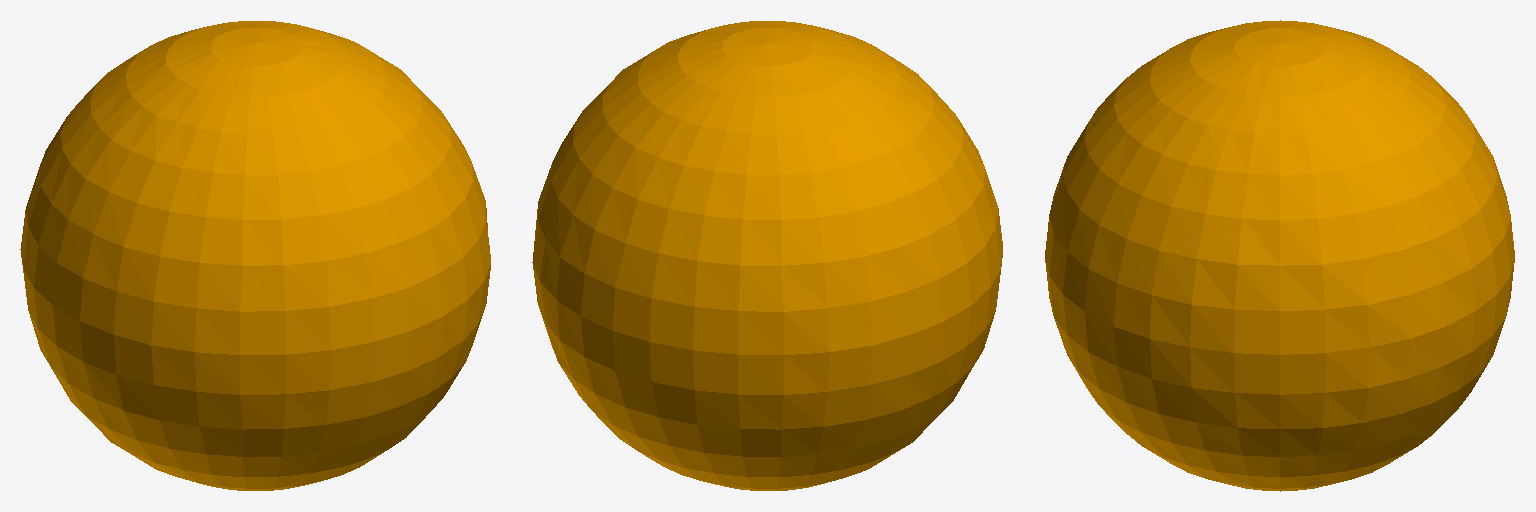
The robot description file, URDF, robot "light_balcony":
<?xml version="1.0" ?>

<robot name="light_balcony" xmlns:xi="http://www.w3.org/2001/XInclude"
	xmlns:gazebo="http://playerstage.sourceforge.net/gazebo/xmlschema/#gz"
	xmlns:model="http://playerstage.sourceforge.net/gazebo/xmlschema/#model"
	xmlns:sensor="http://playerstage.sourceforge.net/gazebo/xmlschema/#sensor"
	xmlns:body="http://playerstage.sourceforge.net/gazebo/xmlschema/#body"
	xmlns:geom="http://playerstage.sourceforge.net/gazebo/xmlschema/#geom"
	xmlns:joint="http://playerstage.sourceforge.net/gazebo/xmlschema/#joint"
	xmlns:interface="http://playerstage.sourceforge.net/gazebo/xmlschema/#interface"
	xmlns:rendering="http://playerstage.sourceforge.net/gazebo/xmlschema/#rendering"
	xmlns:renderable="http://playerstage.sourceforge.net/gazebo/xmlschema/#renderable"
	xmlns:controller="http://playerstage.sourceforge.net/gazebo/xmlschema/#controller"
	xmlns:physics="http://playerstage.sourceforge.net/gazebo/xmlschema/#physics">

  <link name="bulb_balcony">
   <inertial>
	<mass value="1" />
			<com xyz="11.27 3.15 2.25" />
			<inertia ixx="0" ixy="0.0" ixz="0.0" iyy="0" iyz="0.0" izz="0" />
		</inertial>

		<visual>
			<origin xyz="11.27 3.15 2.25" rpy="0 0 0" />  <!--   definition of the visual postion of the object!! -->
			<geometry>
				<sphere radius="0.0001" />
			</geometry>
		</visual>
		<collision>
			<origin xyz="11.27 3.15 2.25" rpy="0 0 0" />
			<geometry>
				<sphere radius="0.0001" />
			</geometry>
		</collision>
	</link>

	<gazebo reference="bulb_balcony">
		<model:renderable name="light_balcony">
			<xyz>11.27 3.15 2.25</xyz>
			<static>true</static>
			<light>
				<type>point</type>
				<diffuseColor>0.1 0.1 0.1</diffuseColor>
				<specularColor>.01 .01 .01</specularColor>
				<attenuation>0.1 0.1 0.0001</attenuation>
				<range>4</range>
			</light>
		</model:renderable>
	</gazebo>
</robot>

--- What the picture shows (computed from the rendered views, not written in the file) ---
The picture shows the robot from 3 angles, left to right: view 1: azimuth 30°, elevation 25°; view 2: azimuth 150°, elevation 25°; view 3: azimuth 270°, elevation 25°; orthographic projection.
Robot: light_balcony — 1 links, 0 joints (none); root link bulb_balcony; default pose: every joint at zero.
Visible links, largest first — view 1: bulb_balcony; view 2: bulb_balcony; view 3: bulb_balcony.
Link boxes in pixels (x1,y1,x2,y2): bulb_balcony: (20, 21, 490, 490); bulb_balcony: (532, 21, 1002, 490); bulb_balcony: (1045, 20, 1514, 491).
Bounding box of the posed robot: 0.0002 × 0.0002 × 0.0002 m (x, y, z).
Geometry: primitives only (box / cylinder / sphere), no mesh files.